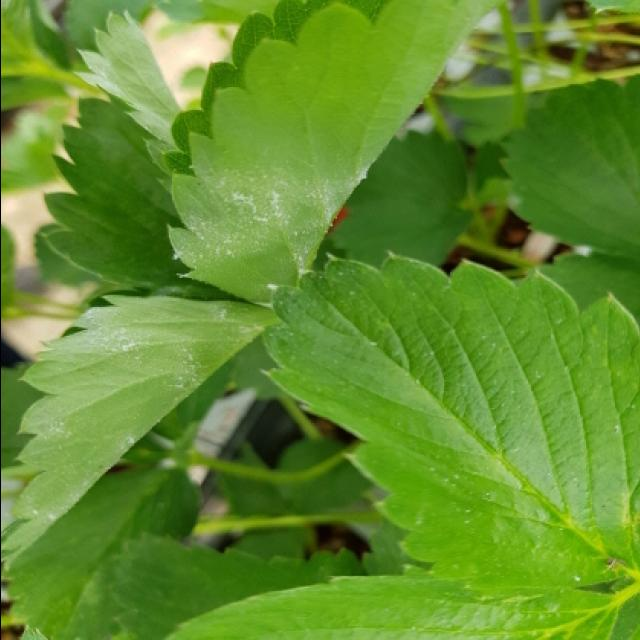Powdery Mildew Leaf: (160, 2, 507, 310), (2, 294, 277, 565)
